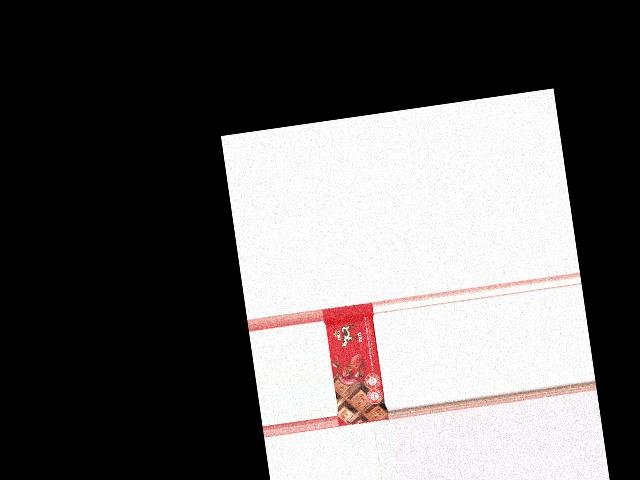chocolate: (322, 301, 389, 425)
